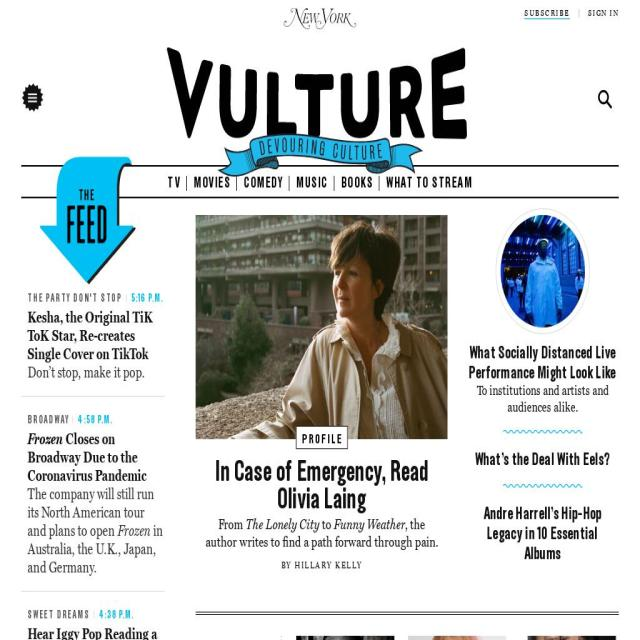button: (167, 47, 467, 146), (202, 458, 441, 514), (40, 157, 136, 288), (472, 504, 612, 564), (466, 342, 619, 383), (472, 449, 612, 470), (284, 8, 356, 30), (387, 176, 472, 192), (591, 82, 619, 119), (244, 176, 283, 192), (193, 176, 230, 192), (22, 82, 42, 110), (296, 176, 328, 192), (341, 176, 373, 192), (524, 8, 570, 18), (588, 8, 618, 18), (168, 176, 180, 192)
heading: (167, 48, 467, 140), (214, 457, 429, 514), (483, 504, 601, 564), (469, 343, 616, 382), (474, 450, 610, 469)
image: (195, 215, 448, 439), (40, 157, 136, 285), (500, 215, 585, 328), (217, 133, 423, 177), (284, 8, 356, 30), (21, 81, 44, 112), (296, 635, 395, 640), (408, 635, 507, 640), (520, 635, 619, 640), (598, 89, 612, 110)
link: (28, 430, 63, 449)
text: (205, 515, 438, 551), (28, 522, 163, 578), (28, 485, 154, 541), (28, 308, 153, 364), (27, 430, 147, 486), (476, 382, 609, 417), (27, 363, 145, 382), (28, 625, 158, 640), (246, 515, 320, 533), (334, 515, 406, 533), (27, 293, 127, 305), (294, 559, 362, 571), (27, 610, 94, 622), (302, 432, 344, 446), (118, 522, 150, 540), (28, 415, 73, 427), (218, 515, 246, 533), (98, 609, 134, 623), (78, 414, 113, 428), (131, 292, 163, 306), (320, 515, 334, 533), (281, 559, 295, 571)
